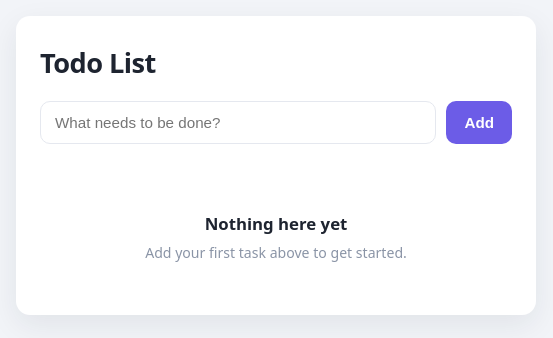
Test: Todo app › edits a todo via the edit button
This screenshot has width=553, height=338.
Type "Old text" into the field named "new todo text" at (238, 122), box [40,101,436,144]
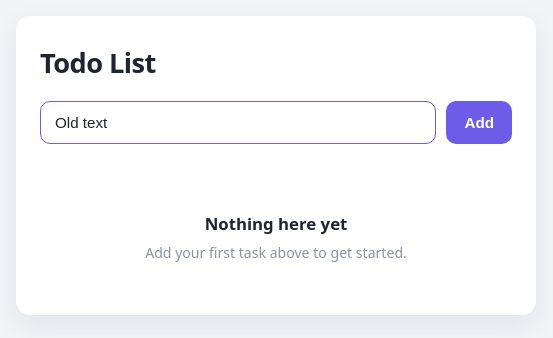
Click the button "Add" at (479, 122), box [446,101,512,144]
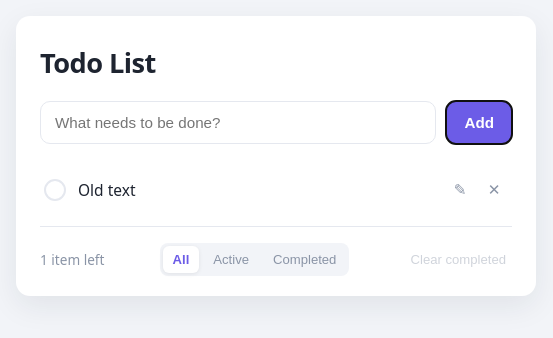
Click the button named "edit todo" at (460, 190), box [446,176,474,204]
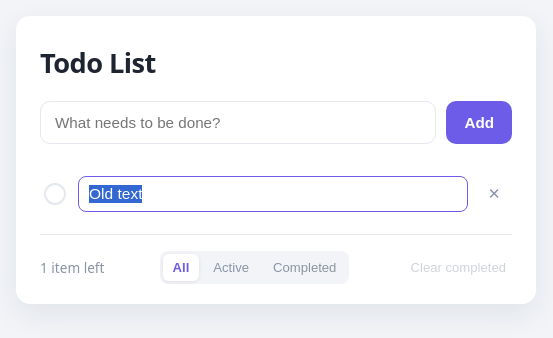
Replace the text in the field showing "Old text" with "New text" at (273, 194), box [78,176,468,212]
Then press Enter
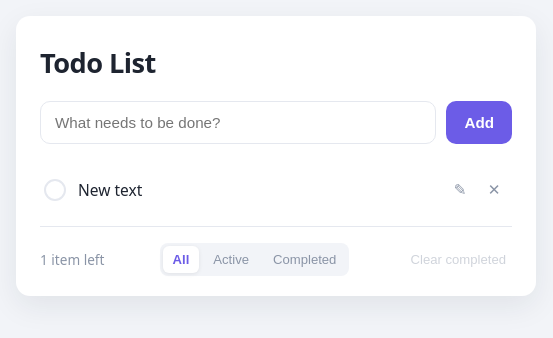
Expected: the text "Old text" is not shown
Result: the text "New text" is shown at [78,179,142,201]
